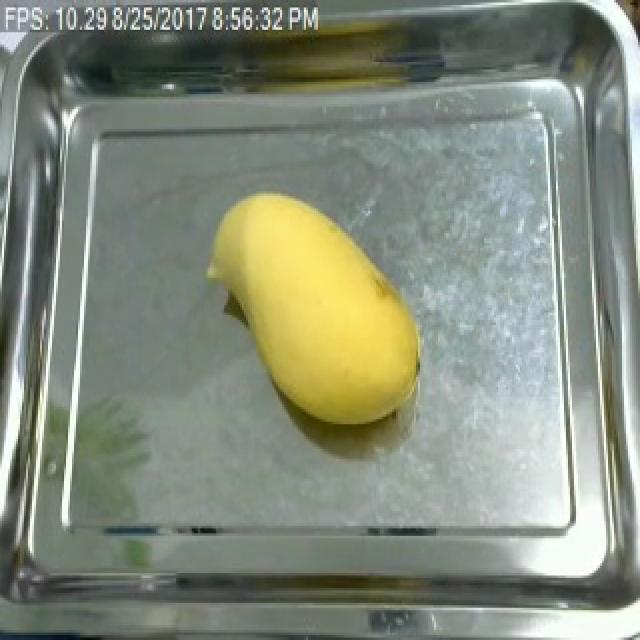fruit: (196, 179, 430, 439)
